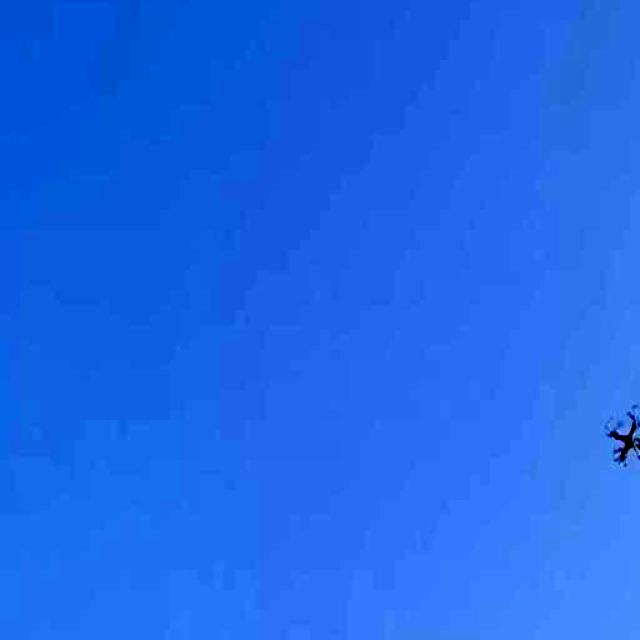bird: (599, 395, 640, 479)
